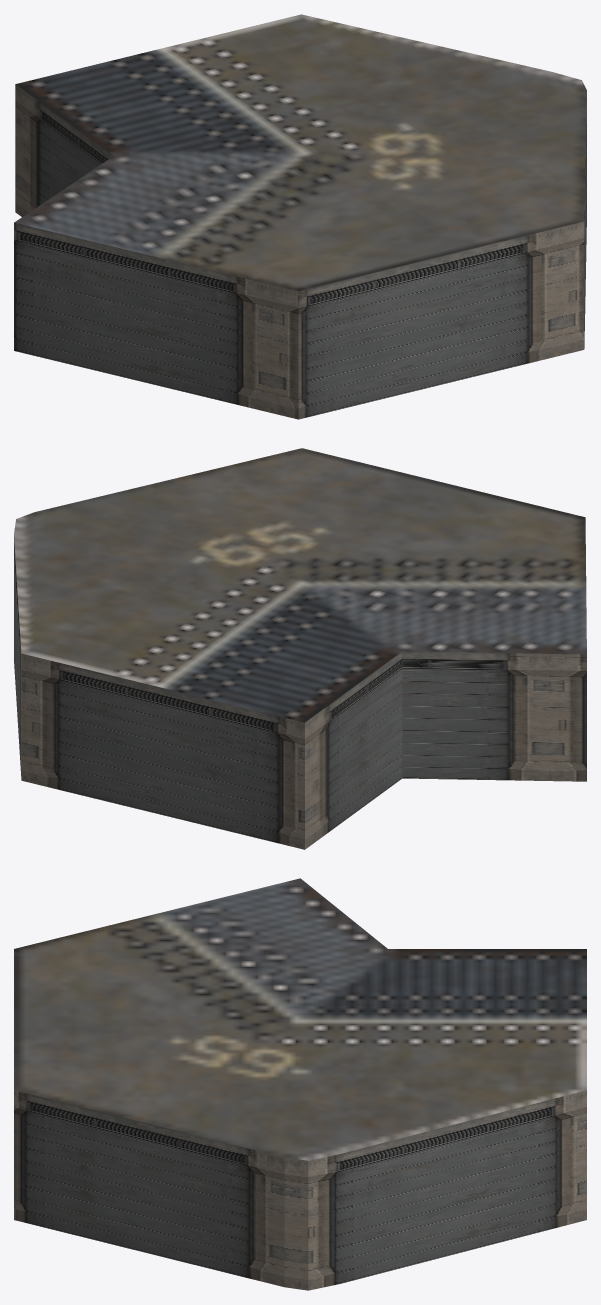
Rendered from hangar_heavy_65.glb.
3 views of the same model, one above another, from view 1: azimuth 30°, elevation 25°; view 2: azimuth 150°, elevation 25°; view 3: azimuth 270°, elevation 25° (orthographic). The views are drawn at different scales.
Parts seen in each view (by area): view 1: buildings/saxarba/hangar_heavy/hangar_heavy_65; view 2: buildings/saxarba/hangar_heavy/hangar_heavy_65; view 3: buildings/saxarba/hangar_heavy/hangar_heavy_65.
Part boxes in pixels (bbox=[...]): buildings/saxarba/hangar_heavy/hangar_heavy_65: bbox=[14, 14, 586, 419]; buildings/saxarba/hangar_heavy/hangar_heavy_65: bbox=[14, 448, 586, 849]; buildings/saxarba/hangar_heavy/hangar_heavy_65: bbox=[14, 878, 586, 1290].
Size of the model in its own units: 84 by 18 by 72.
